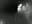person: (24, 3, 32, 20), (17, 3, 23, 15)
